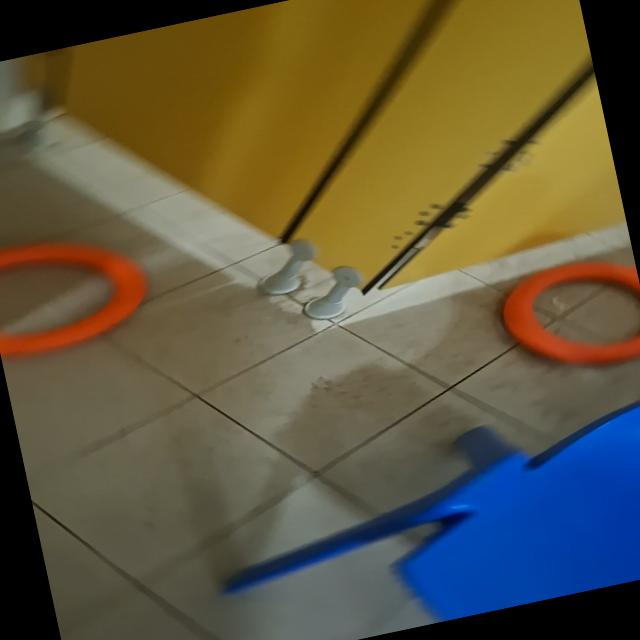note: (0, 218, 158, 361), (493, 249, 640, 384)
